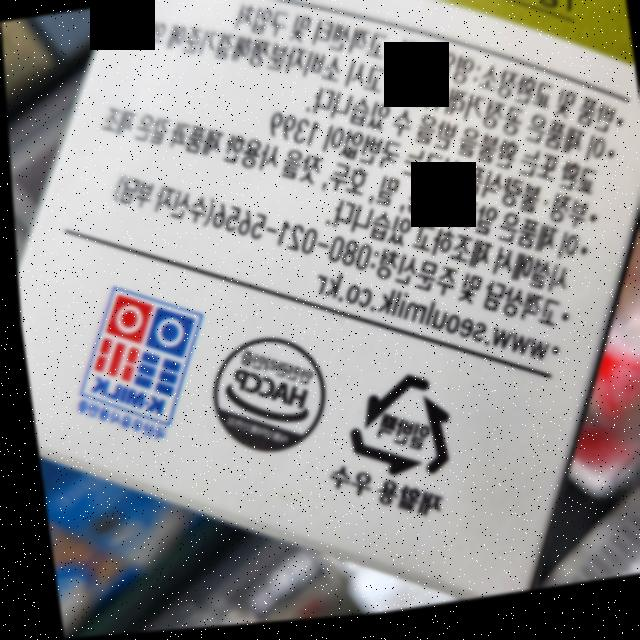NormalPack: (334, 372, 455, 495)
